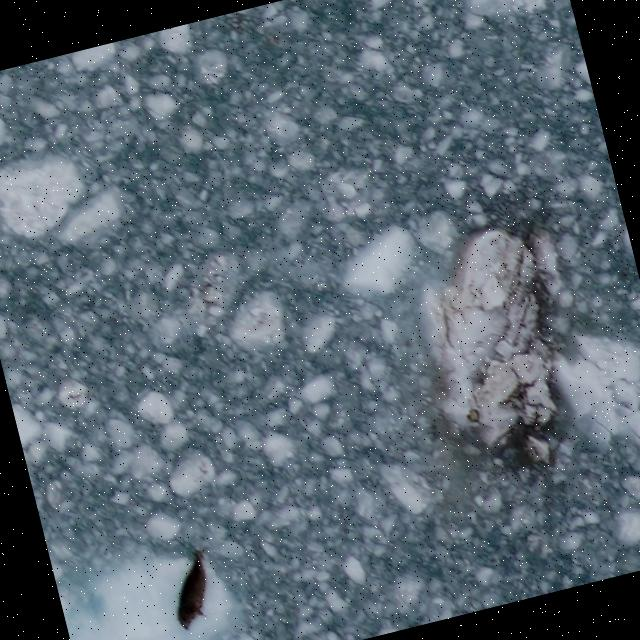seal: (153, 544, 229, 640)
